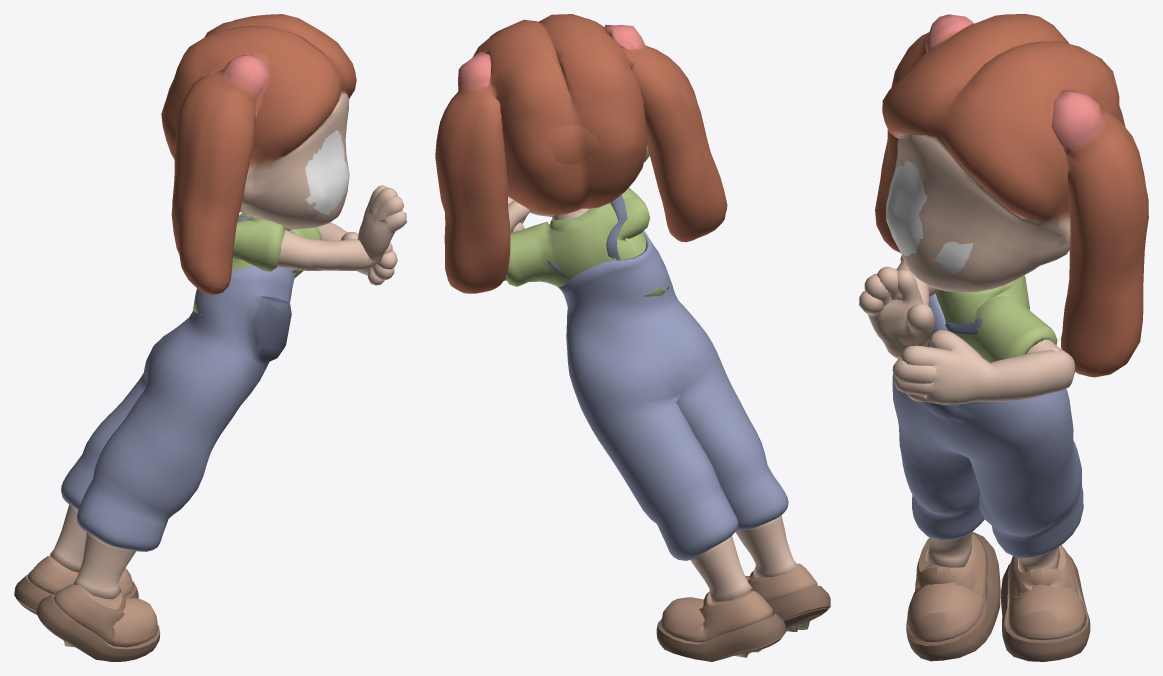
3 renders of one model, left to right at view 1: azimuth 30°, elevation 25°; view 2: azimuth 150°, elevation 25°; view 3: azimuth 270°, elevation 25°, orthographic. The views are drawn at different scales.
Visible parts, largest first — view 1: Arms.110; view 2: Arms.110; view 3: Arms.110.
Part boxes in pixels (x1,y1,x2,y2): Arms.110: [14, 14, 406, 661]; Arms.110: [435, 14, 830, 661]; Arms.110: [859, 14, 1148, 661].
Bounding box in the file's own units: 97.9 × 155 × 56.75.
